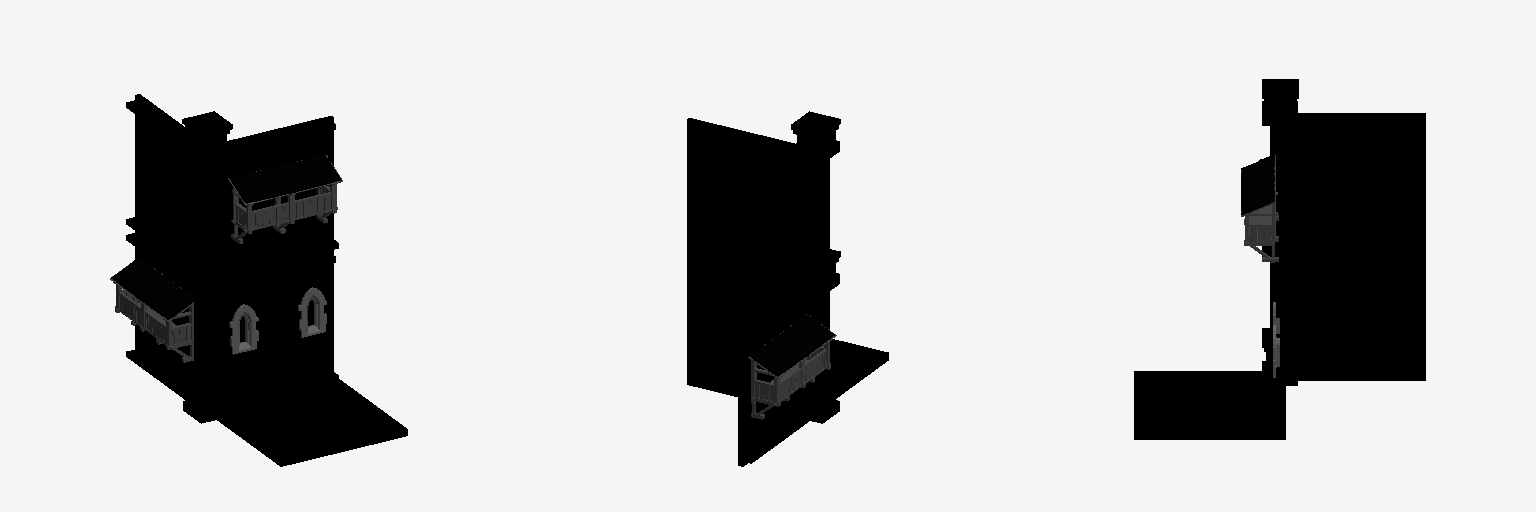
3 renders of one model, left to right at view 1: azimuth 30°, elevation 25°; view 2: azimuth 150°, elevation 25°; view 3: azimuth 270°, elevation 25°, orthographic.
Visible parts, largest first — view 1: Cube.049_Cube.075, object_19, object_23, object_22, object_1, object_2, object_26, object_4, object_9, object_18, Plane.007, object_3 (+12 smaller); view 2: object_23, object_22, object_19, Cube.049_Cube.075, object_18, object_26, object_2, object_25, object_21, object_8, object_7, object_27 (+2 smaller); view 3: object_22, object_18, object_1, Cube.049_Cube.075, object_4, object_2, object_3, object_23, object_19, object_27, object_26, object_5.
Boxes of the visible parts, x1,y1,x2,y2 form: Cube.049_Cube.075: [110, 154, 342, 362]; object_19: [221, 250, 333, 397]; object_23: [221, 116, 333, 275]; object_22: [135, 94, 193, 250]; object_1: [221, 389, 401, 466]; object_2: [217, 402, 311, 465]; object_26: [194, 159, 220, 259]; object_4: [308, 379, 407, 443]; object_9: [194, 292, 220, 375]; object_18: [135, 231, 193, 387]; Plane.007: [229, 287, 326, 354]; object_3: [295, 423, 375, 458]; object_23: [687, 118, 795, 264]; object_22: [738, 154, 810, 333]; object_19: [687, 253, 737, 396]; Cube.049_Cube.075: [748, 314, 836, 419]; object_18: [738, 291, 810, 466]; object_26: [811, 159, 829, 259]; object_2: [831, 345, 888, 398]; object_25: [743, 276, 816, 330]; object_21: [743, 161, 819, 214]; object_8: [743, 293, 819, 346]; object_7: [743, 410, 815, 463]; object_27: [791, 111, 840, 136]; object_22: [1290, 113, 1425, 247]; object_18: [1290, 248, 1425, 380]; object_1: [1134, 388, 1279, 439]; Cube.049_Cube.075: [1241, 154, 1278, 262]; object_4: [1134, 418, 1269, 434]; object_2: [1134, 371, 1269, 387]; object_3: [1134, 386, 1169, 417]; object_23: [1280, 121, 1285, 307]; object_19: [1280, 308, 1285, 439]; object_27: [1262, 79, 1298, 98]; object_26: [1270, 126, 1289, 222]; object_5: [1270, 375, 1279, 434].
Size of the model in its own units: 12.39 by 22.01 by 20.